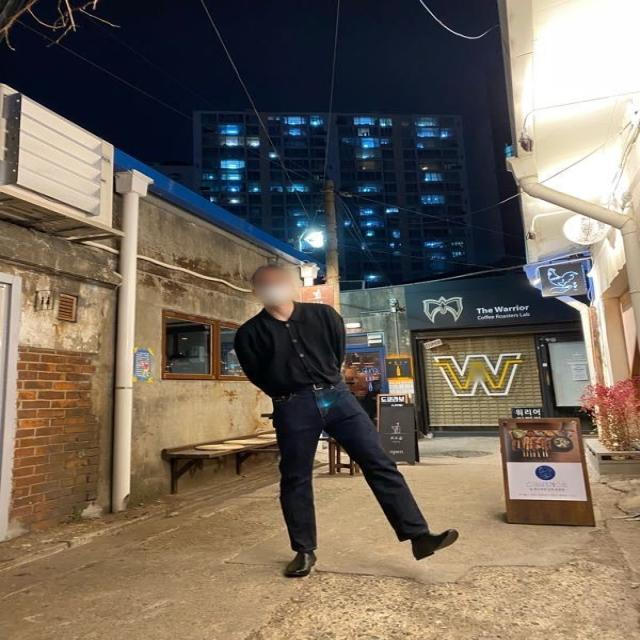cardigan: (232, 300, 351, 394)
denimpants: (270, 382, 434, 546)
